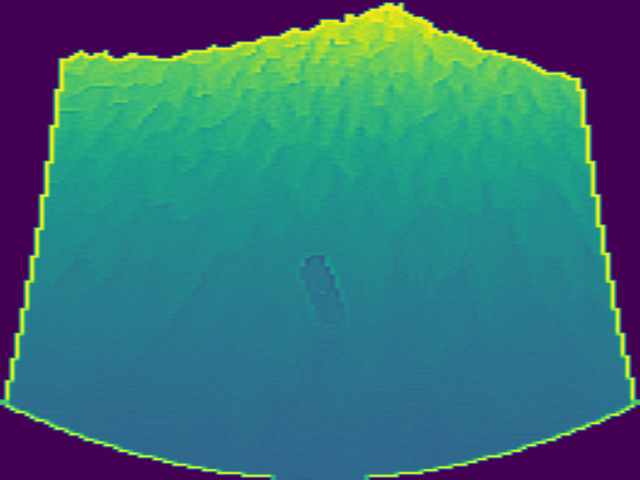car_0198: (299, 253, 346, 321)
